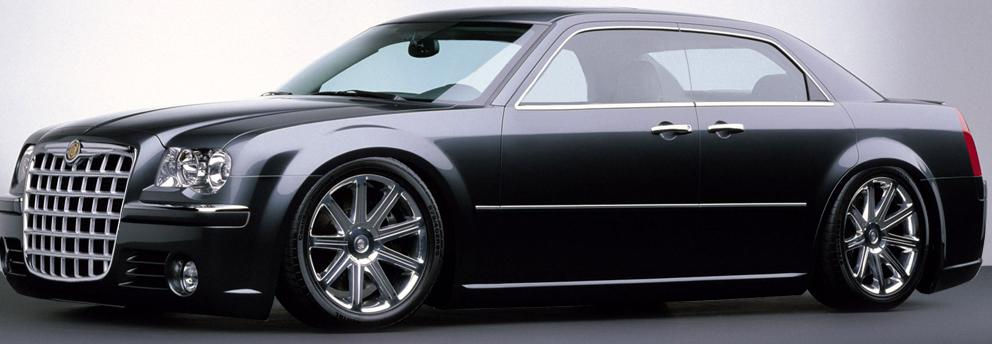backlight: (945, 99, 987, 182)
front_view: (5, 139, 301, 298)
headlight: (149, 131, 261, 214)
side_glass: (530, 21, 840, 107)
